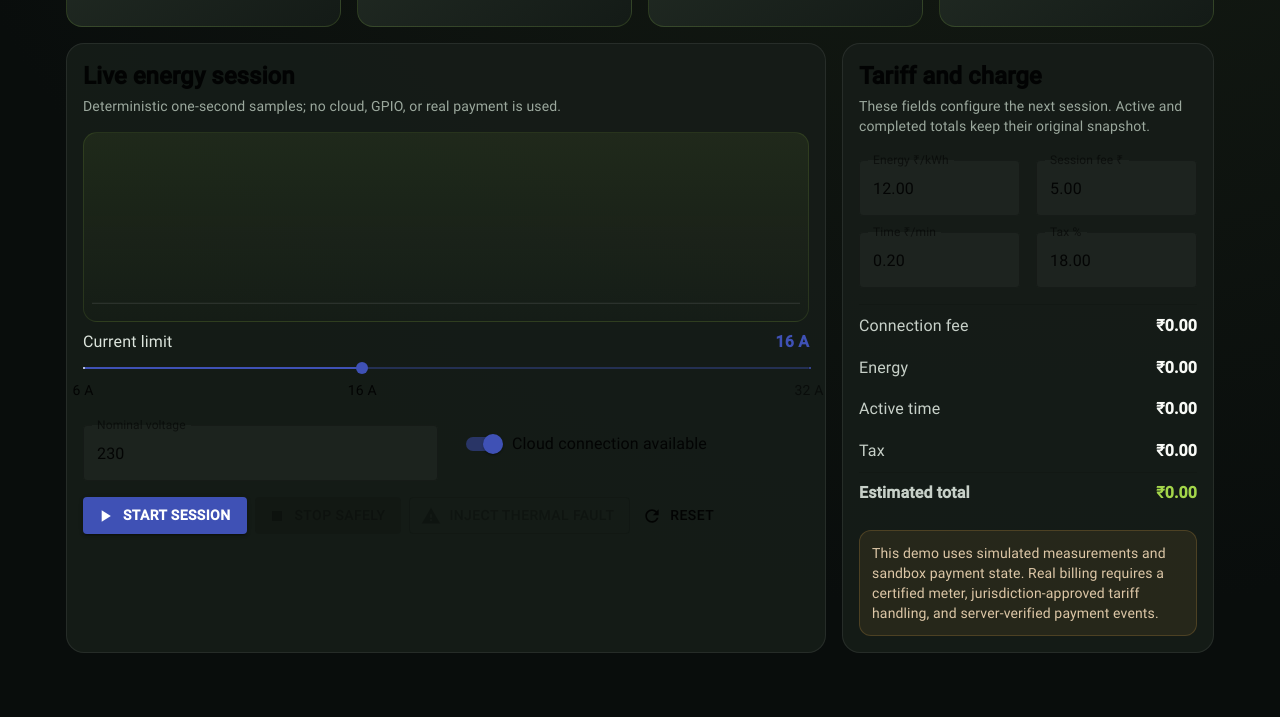
SmartPodDemo › exposes session state through a live region and enables stop and fault once started
(page scrolled)
What coordinates should you click on to do the following:
click the button "Start session"
I would click on:
 (165, 516)
Its box is [83,497,246,534].
Wait 700 ms
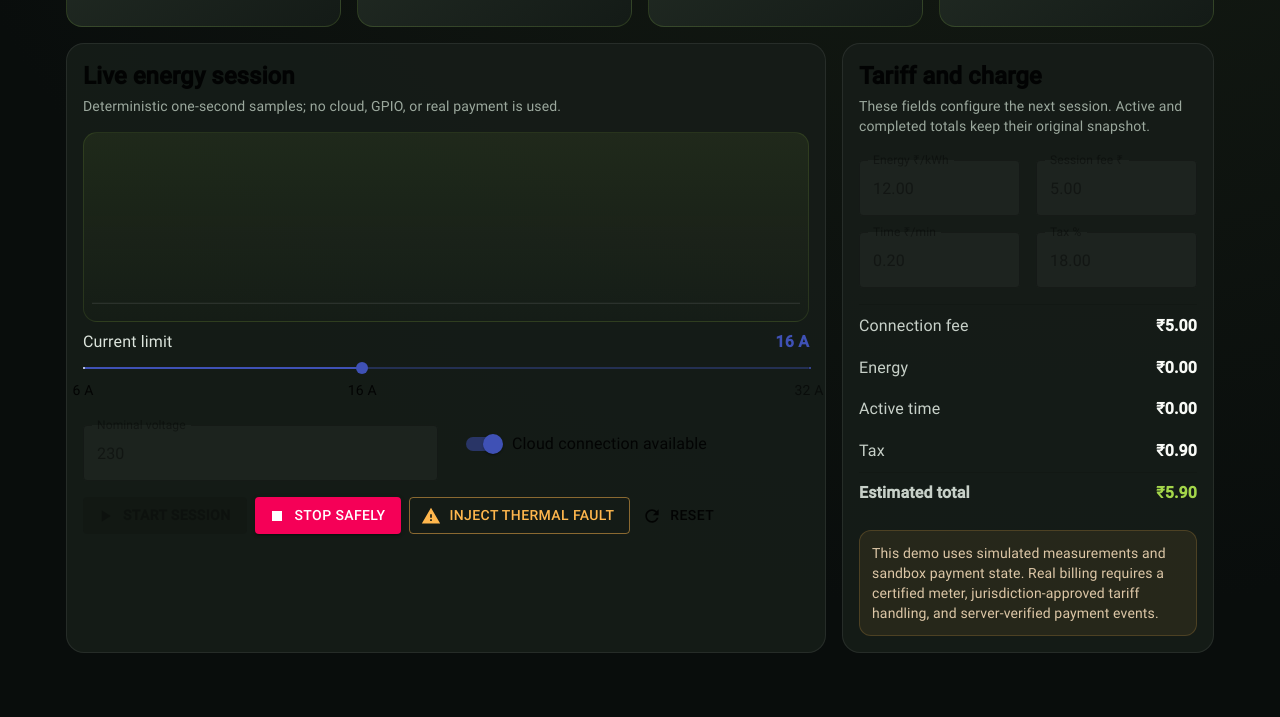
Now the button "Stop safely" is enabled, box [254,497,401,534]
Now the button "Inject thermal fault" is enabled, box [409,497,630,534]
